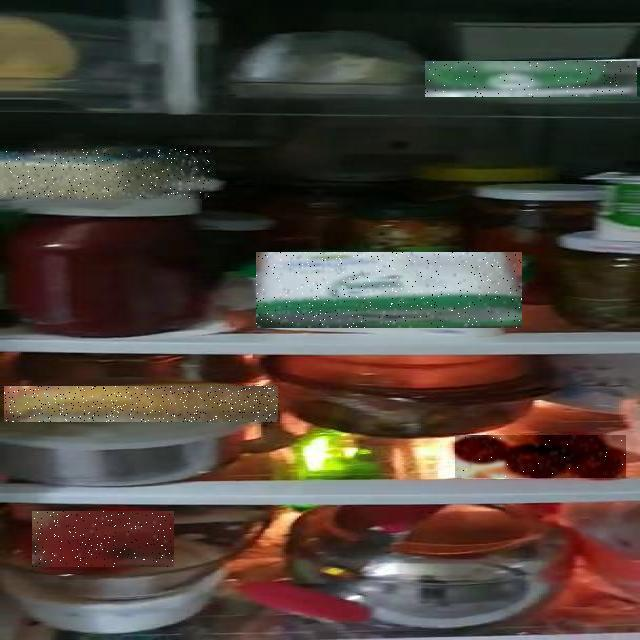banana: (0, 211, 143, 633)
cheese: (0, 164, 518, 492), (0, 100, 109, 298)
